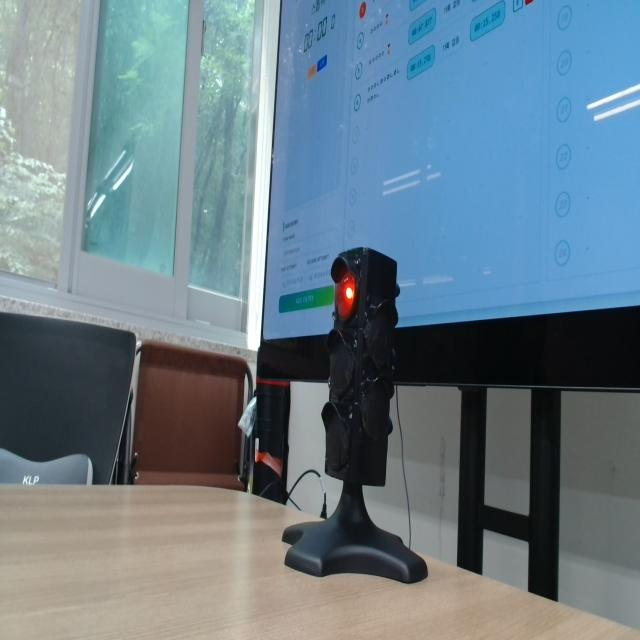red_light: (335, 271, 356, 319), (359, 2, 366, 18)
